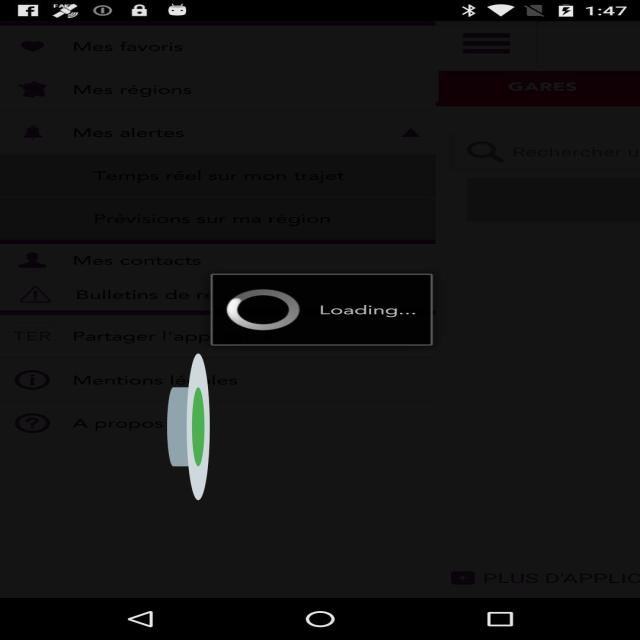social proof: (167, 292, 210, 562)
